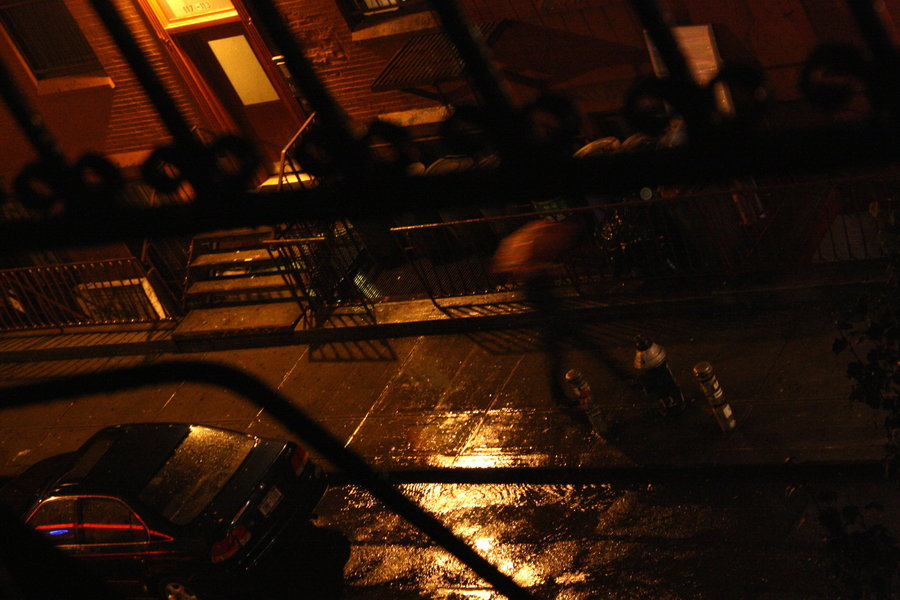car: (5, 410, 337, 591)
